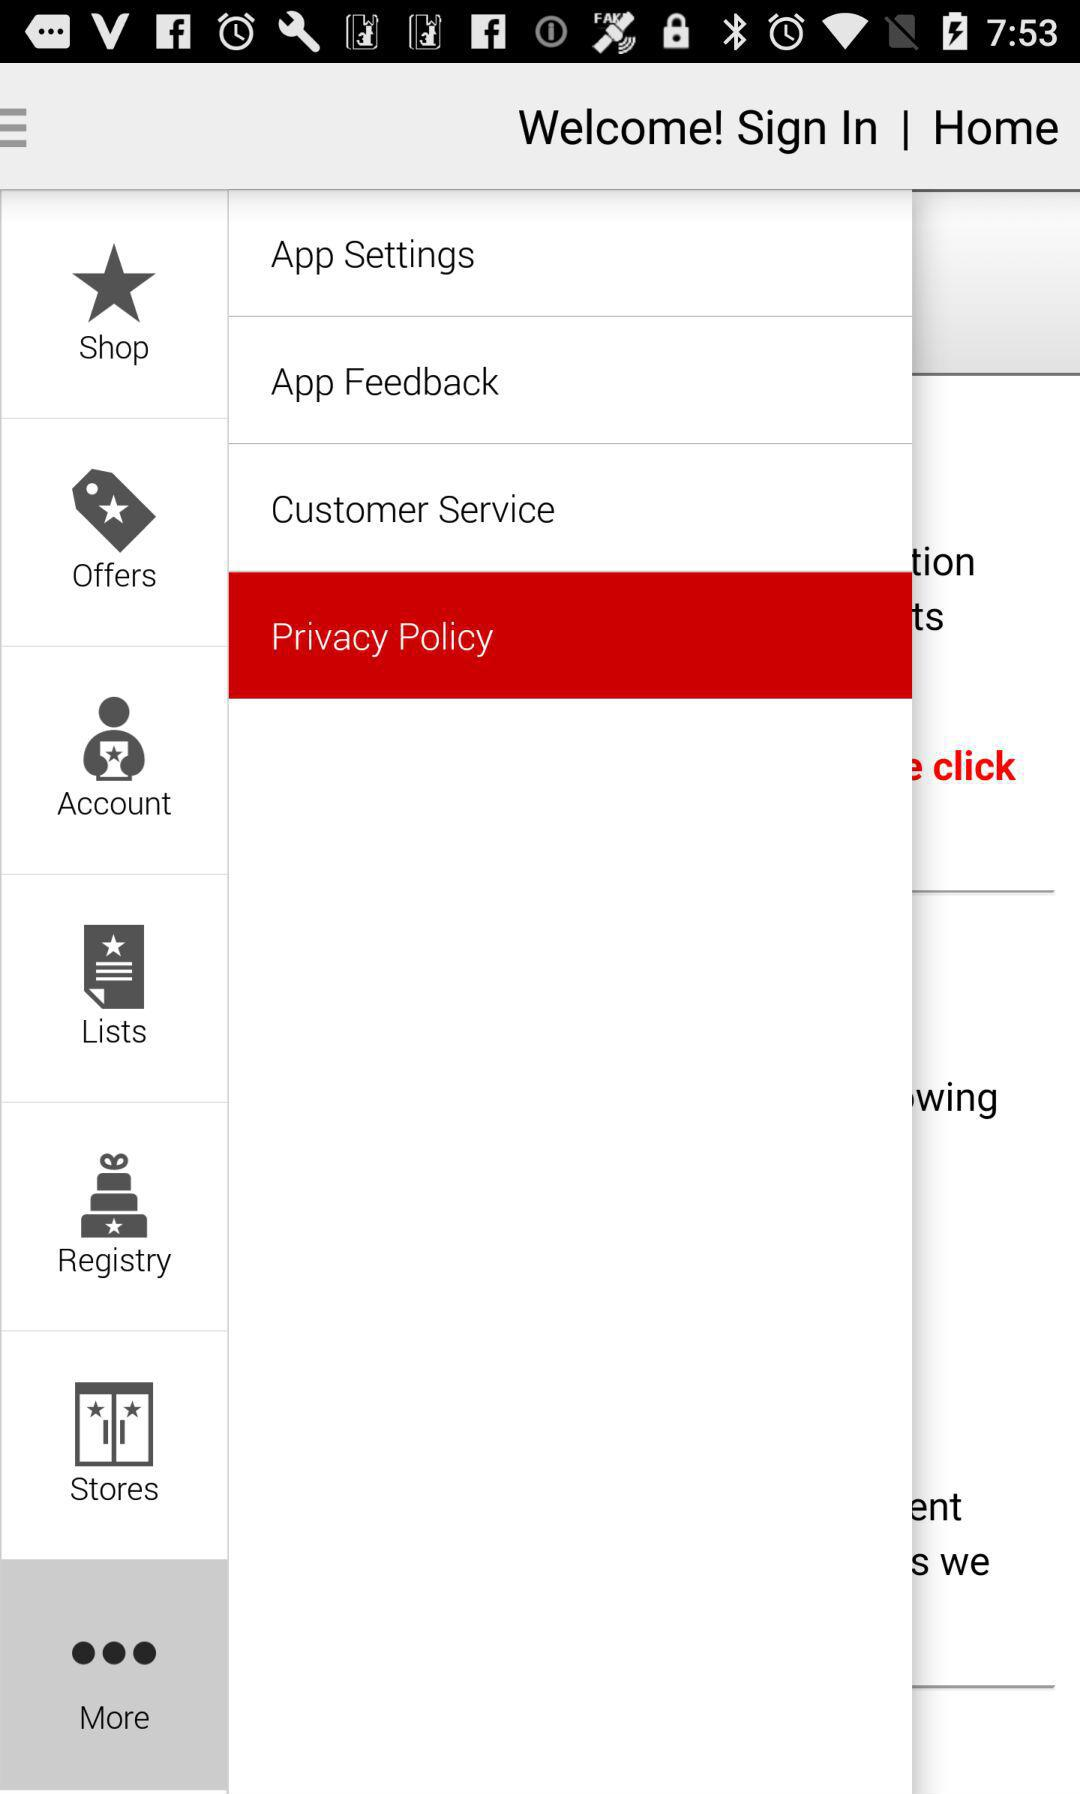Drawer: (1, 191, 912, 1793)
Icon: (72, 468, 158, 556), (76, 1381, 156, 1469), (72, 245, 158, 325), (79, 1152, 149, 1240), (82, 696, 147, 783), (83, 924, 146, 1012), (70, 1638, 159, 1668), (1, 105, 28, 151)
Text: (516, 103, 1060, 158), (272, 363, 498, 406), (272, 491, 555, 525), (272, 615, 495, 657), (272, 238, 475, 279), (58, 1246, 172, 1281), (56, 791, 176, 819), (69, 1474, 161, 1503), (72, 561, 158, 589), (79, 334, 150, 368), (79, 1703, 152, 1732), (81, 1019, 150, 1044)
Toolbar: (1, 63, 1079, 190)
UpperTaskBar: (1, 1, 1080, 64)
